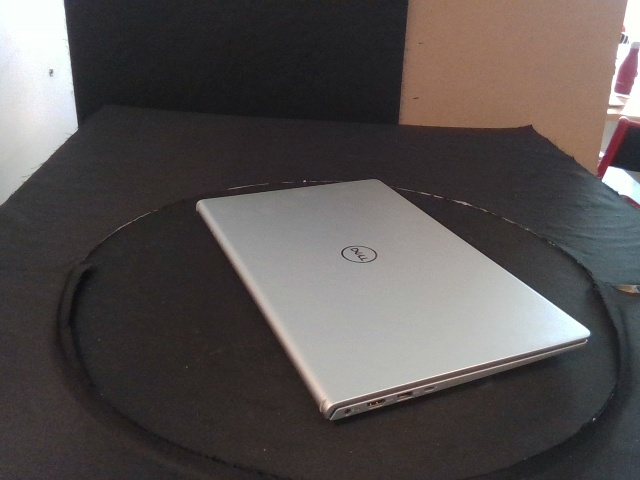laptop: (194, 178, 591, 423)
